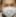with_mask: (2, 2, 16, 17)
